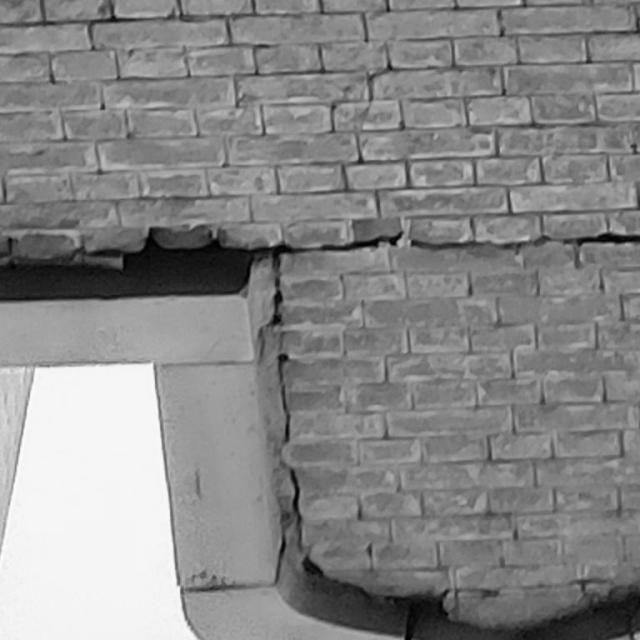crack: (67, 226, 638, 618)
